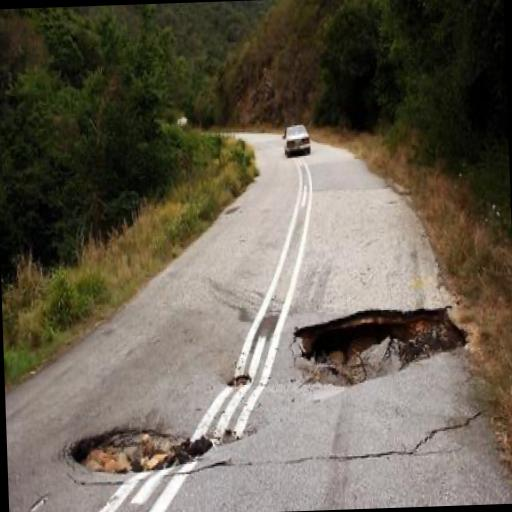pothole: (290, 296, 474, 390), (62, 418, 214, 480), (222, 368, 256, 388)
